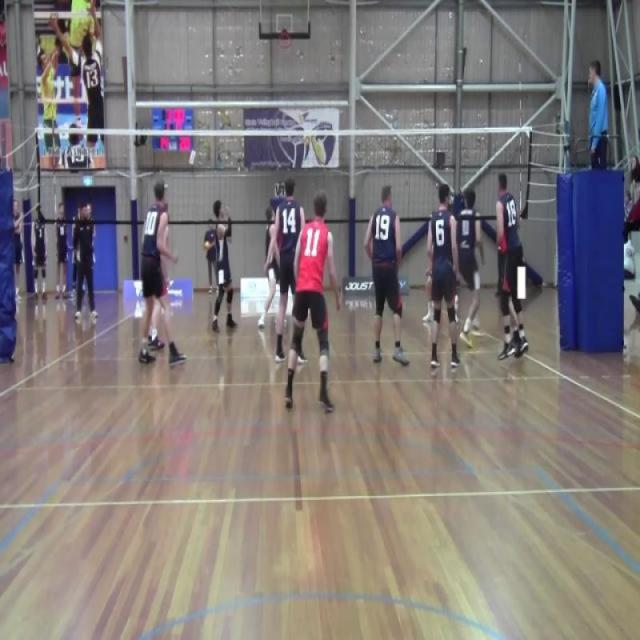volleyball: (302, 134, 312, 146), (203, 241, 210, 252)
